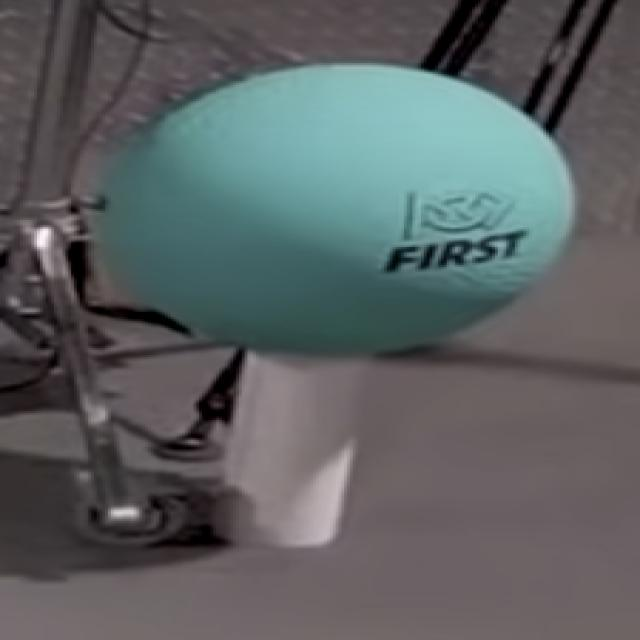Algae: (98, 63, 574, 357)
Coral: (216, 350, 370, 549)
